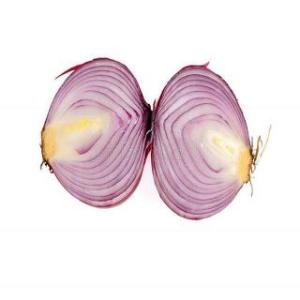onion: (152, 62, 256, 222), (42, 58, 150, 210)
